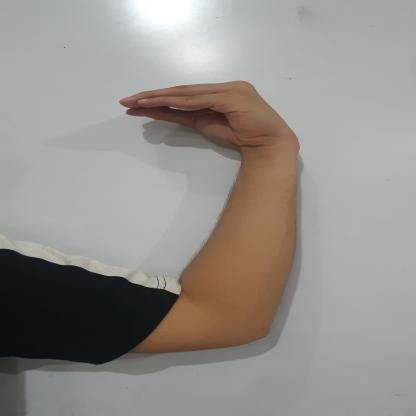Malam: (113, 78, 326, 172)
